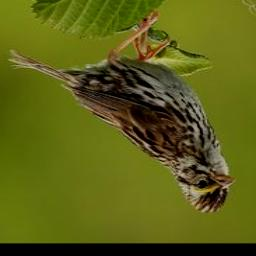Sparrow: (6, 8, 235, 220)
